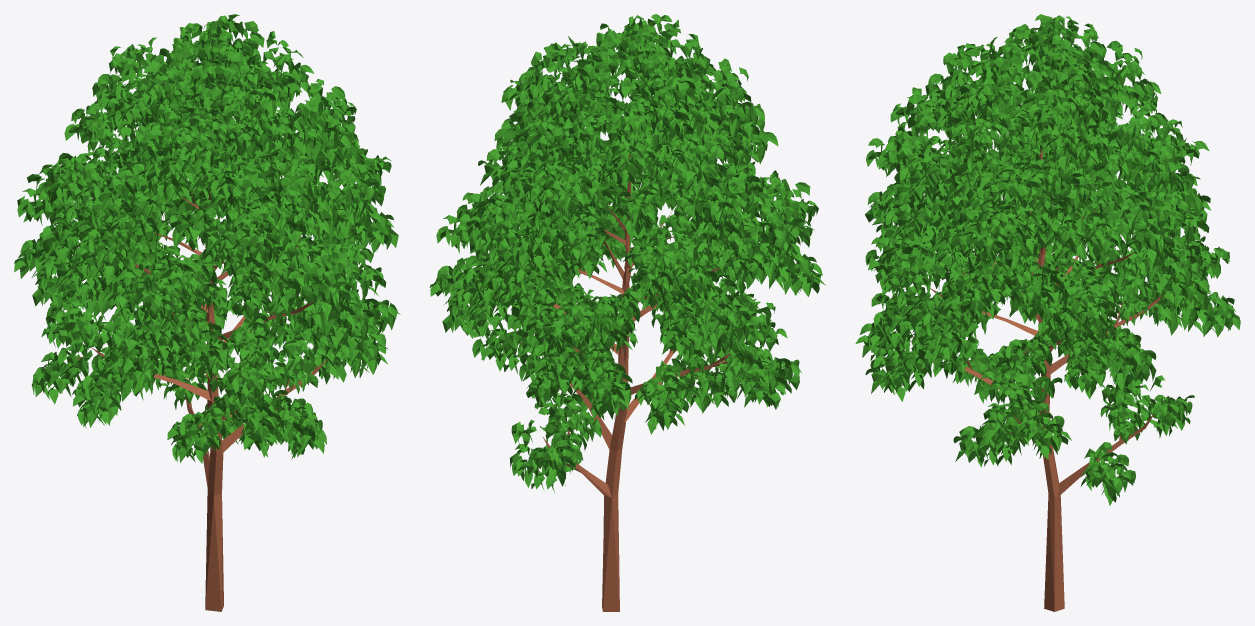
The model's file is birch_tree.fbx.
3 renders of one model, left to right at view 1: azimuth 30°, elevation 25°; view 2: azimuth 150°, elevation 25°; view 3: azimuth 270°, elevation 25°, orthographic. The views are drawn at different scales.
Visible parts, largest first — view 1: Tree.Birch; view 2: Tree.Birch; view 3: Tree.Birch.
Boxes of the visible parts, x1,y1,x2,y2 form: Tree.Birch: (14, 14, 400, 611); Tree.Birch: (429, 14, 825, 611); Tree.Birch: (855, 14, 1240, 611).
Bounding box in the file's own units: 239 × 392 × 237.
